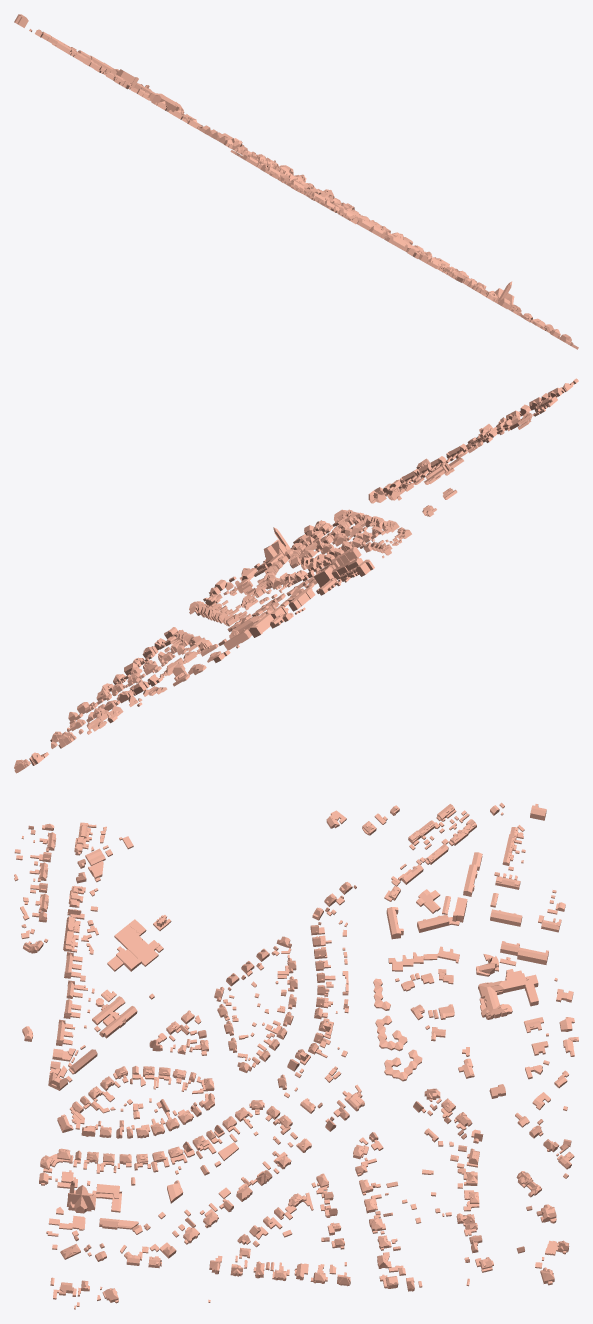
3 views of the same model, one above another, from view 1: azimuth 30°, elevation 25°; view 2: azimuth 150°, elevation 25°; view 3: azimuth 270°, elevation 25° (orthographic). The views are drawn at different scales.
Bounding box in the file's own units: 524 × 379 × 625.
